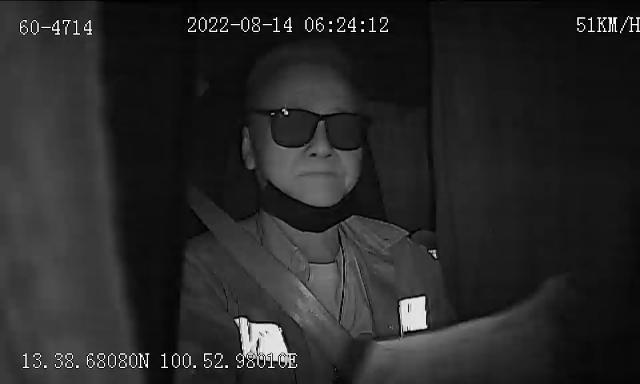SafeDriving: (272, 106, 312, 124)
Seatbelt: (195, 202, 368, 384)
